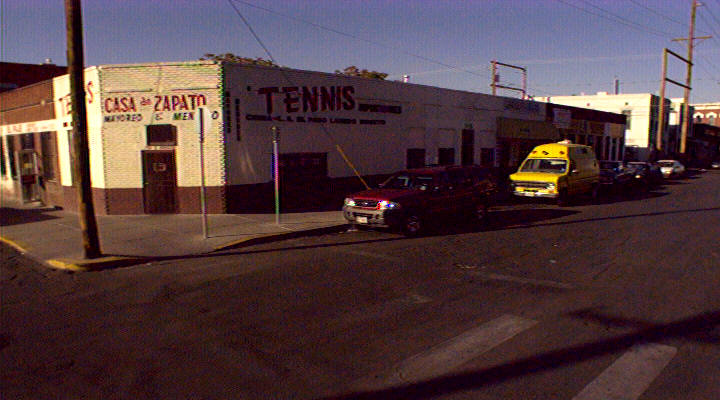Ramp: (98, 228, 221, 267), (18, 238, 74, 269)
